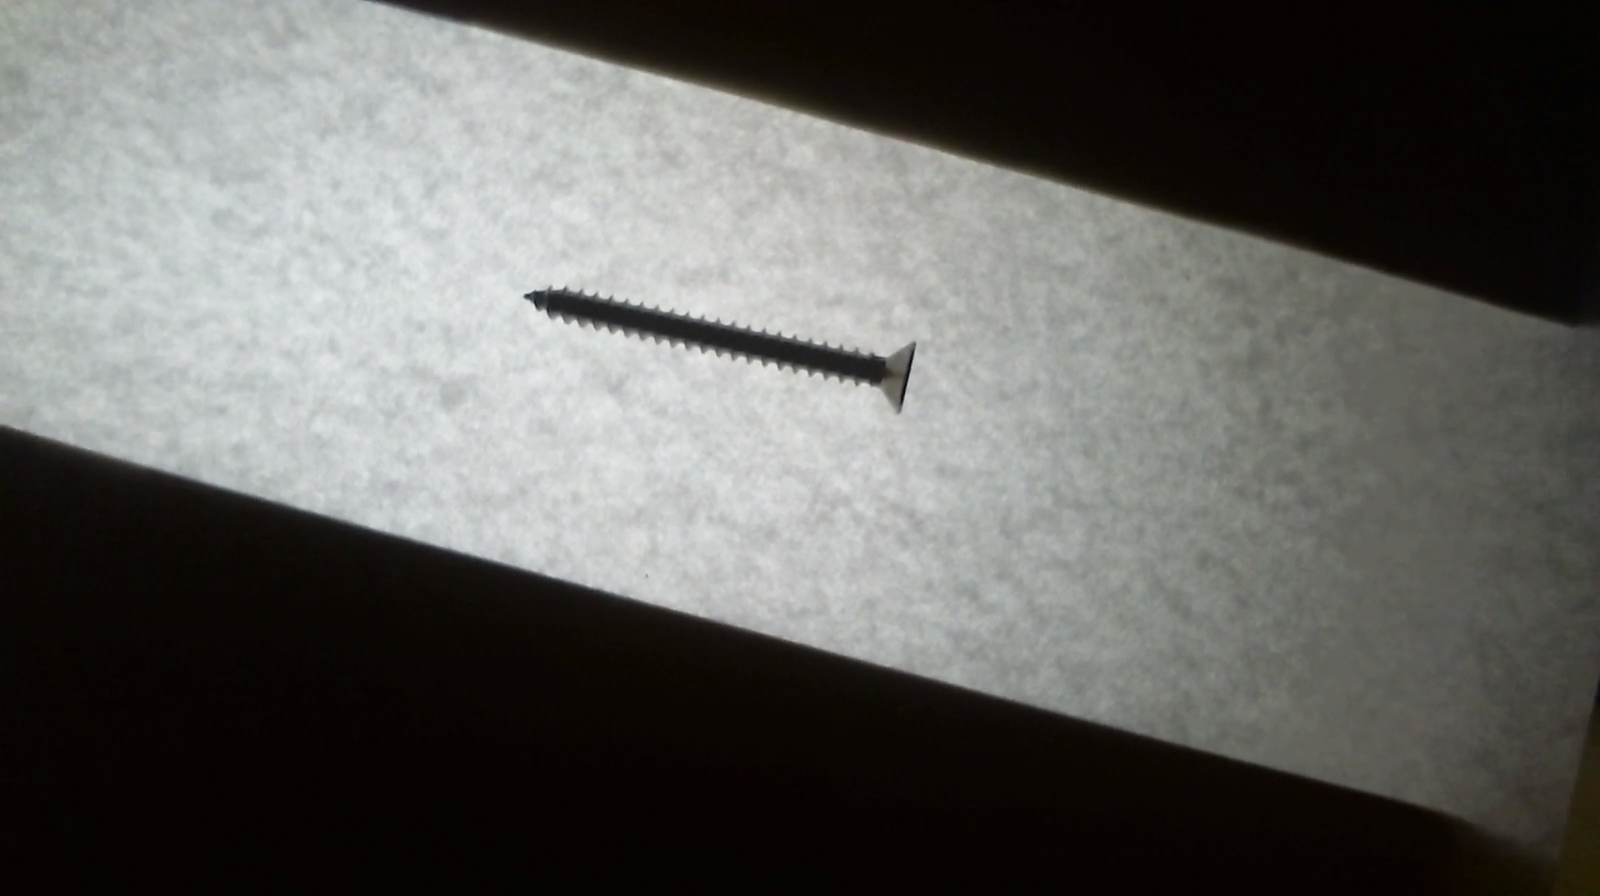S002: (521, 278, 918, 421)
